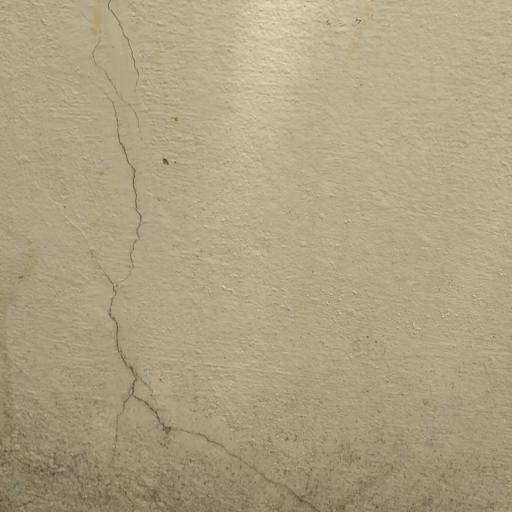minor_crack: (84, 0, 333, 512)
